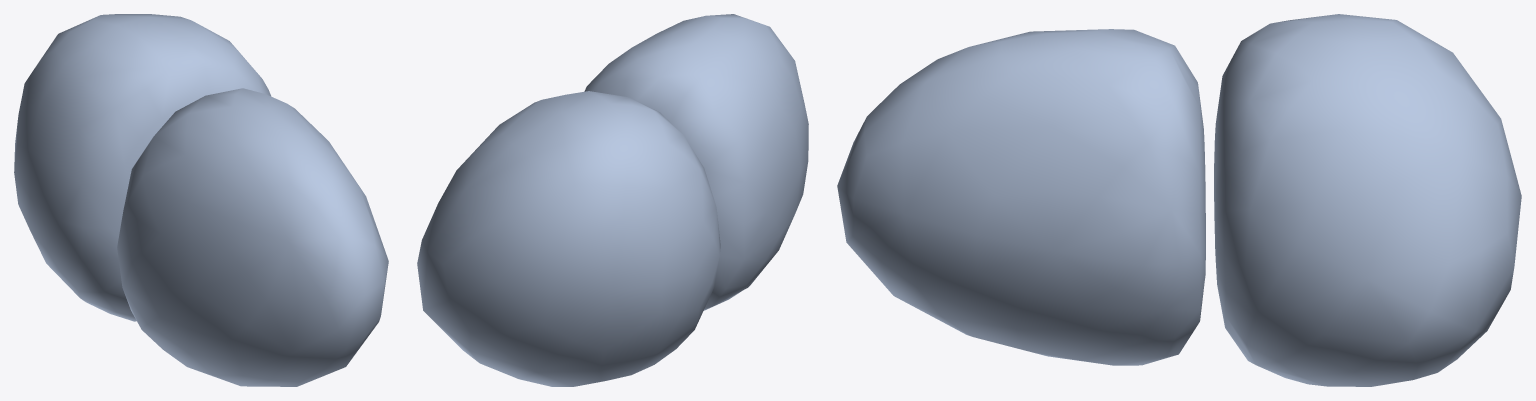
3 views of the same model, side by side, from view 1: azimuth 30°, elevation 25°; view 2: azimuth 150°, elevation 25°; view 3: azimuth 270°, elevation 25° (orthographic). The views are drawn at different scales.
Visible parts, largest first — view 1: 左侧筛骨前群小房; view 2: 左侧筛骨前群小房; view 3: 左侧筛骨前群小房.
Part boxes in pixels (x1,y1,x2,y2): 左侧筛骨前群小房: (14, 14, 388, 386); 左侧筛骨前群小房: (417, 14, 808, 386); 左侧筛骨前群小房: (837, 14, 1521, 386).
Size of the model in its own units: 0.0106 by 0.0113 by 0.0209.
